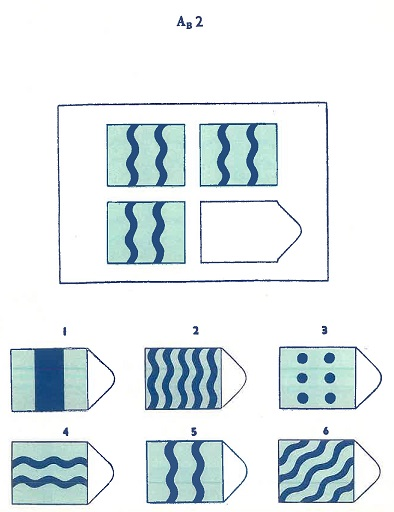Array 1: (7, 322, 118, 416)
Array 2: (139, 322, 249, 413)
Array 3: (274, 323, 384, 413)
Array 4: (7, 421, 118, 507)
Array 5: (140, 419, 252, 507)
Array 6: (274, 419, 383, 506)
Matrix 1: (102, 120, 189, 190)
Matrix 2: (196, 120, 283, 189)
Matrix 3: (103, 197, 190, 267)
Matrix Unknown: (197, 196, 304, 266)
